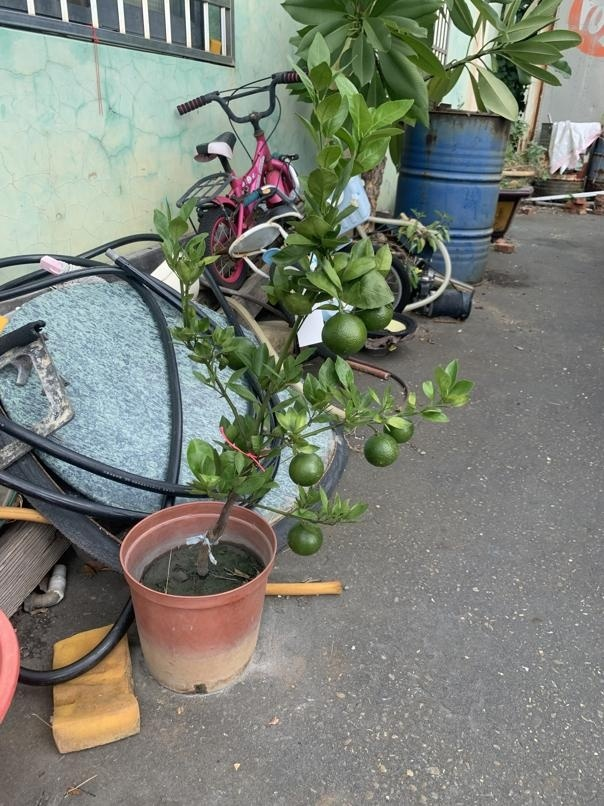Tangerine: (322, 310, 366, 357), (286, 517, 324, 556), (362, 430, 401, 467), (288, 456, 326, 487)
